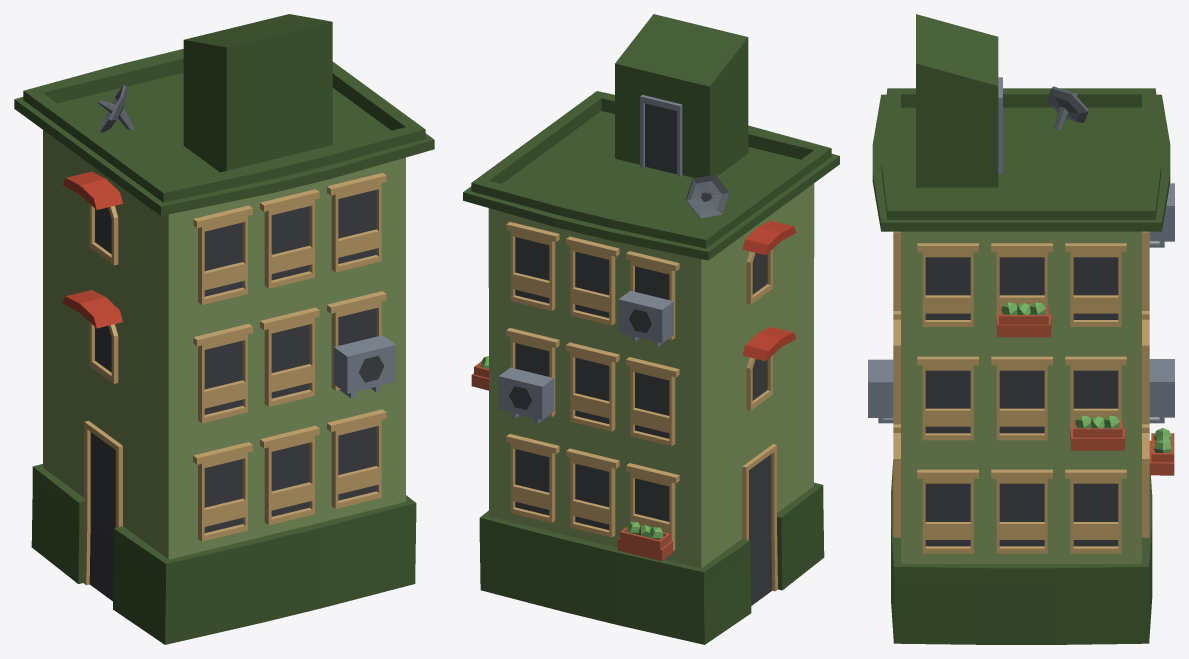
File: Building_House_03.fbx
3 views of the same model, side by side, from view 1: azimuth 30°, elevation 25°; view 2: azimuth 150°, elevation 25°; view 3: azimuth 270°, elevation 25° (orthographic). The views are drawn at different scales.
Parts seen in each view (by area): view 1: Building_House_03; view 2: Building_House_03; view 3: Building_House_03.
Part boxes in pixels (x1,y1,x2,y2): Building_House_03: (14,14,434,644); Building_House_03: (463,14,839,644); Building_House_03: (868,14,1174,644).
Size of the model in its own units: 782 by 1463 by 744.
